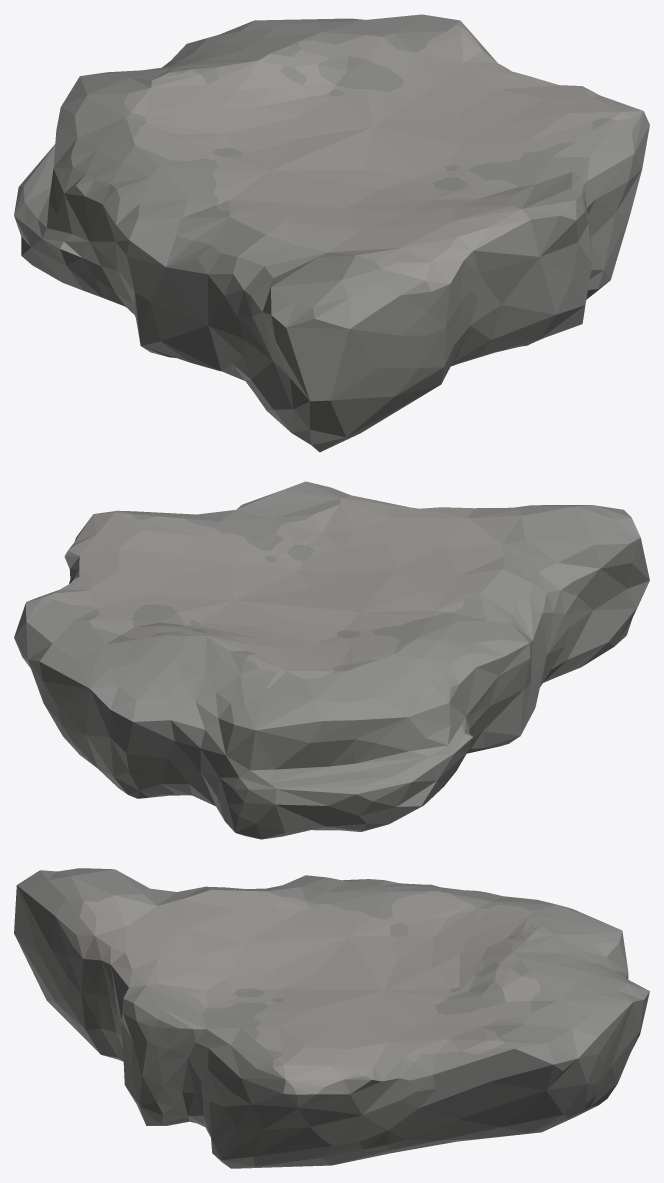
The model's file is Cavern_Floor_Wide_Corner-02.fbx.
The picture shows the model from 3 angles, top to bottom: view 1: azimuth 30°, elevation 25°; view 2: azimuth 150°, elevation 25°; view 3: azimuth 270°, elevation 25°; orthographic projection. The views are drawn at different scales.
Visible parts, largest first — view 1: Cavern_Floor_Wide_Corner-02; view 2: Cavern_Floor_Wide_Corner-02; view 3: Cavern_Floor_Wide_Corner-02.
Part boxes in pixels (left/top/right/bottom): Cavern_Floor_Wide_Corner-02: left=14, top=14, right=649, bottom=452; Cavern_Floor_Wide_Corner-02: left=14, top=481, right=649, bottom=839; Cavern_Floor_Wide_Corner-02: left=14, top=868, right=649, bottom=1168.
Size of the model in its own units: 1703 by 540 by 2075.
Materials: 1 (1 with a texture image).
